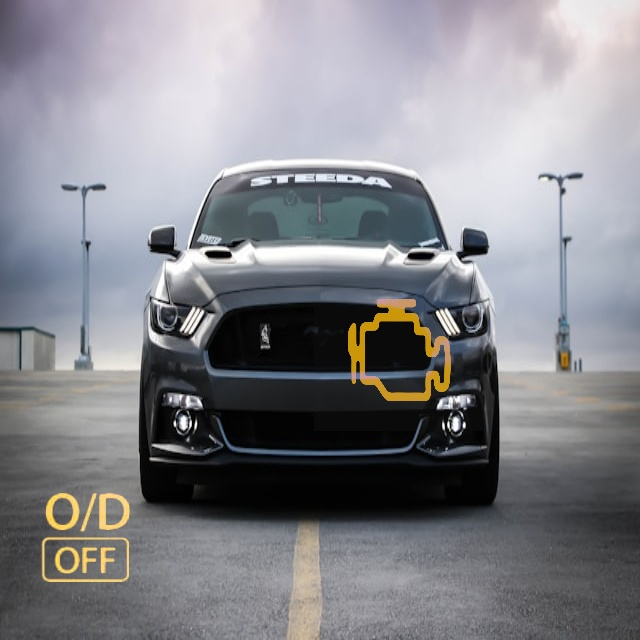symbol: (314, 261, 484, 431), (14, 467, 158, 611)
